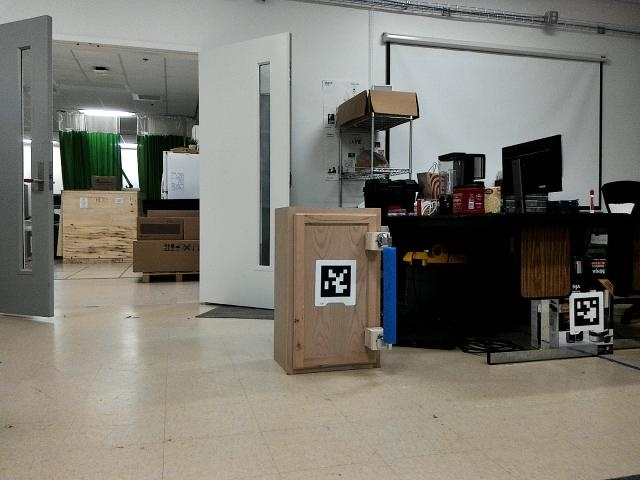noodle_handle: (374, 241, 403, 349)
